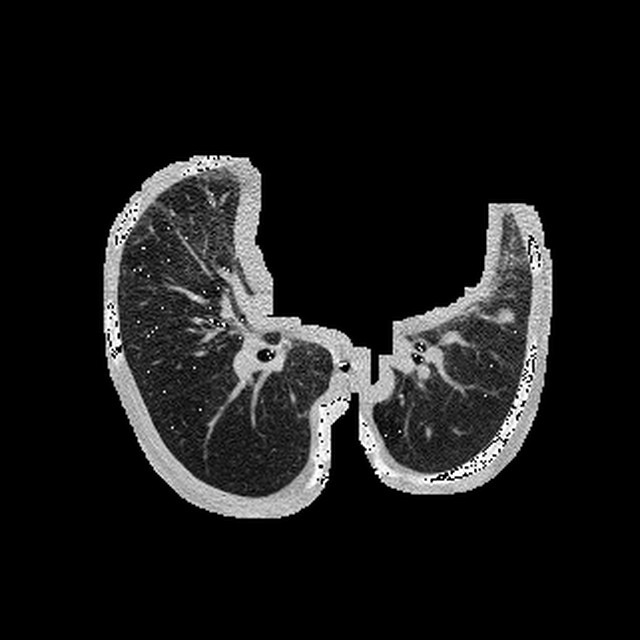PN: (500, 307, 516, 323)
